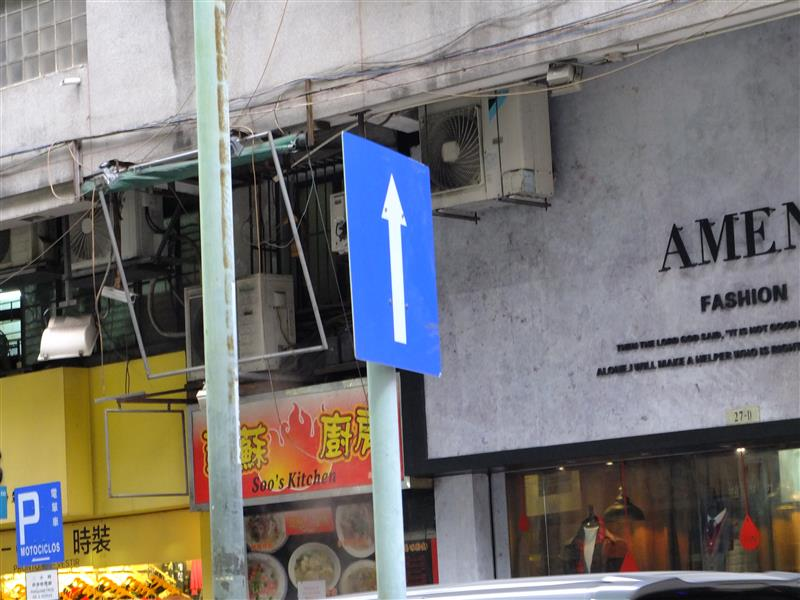oneway: (305, 118, 485, 389)
